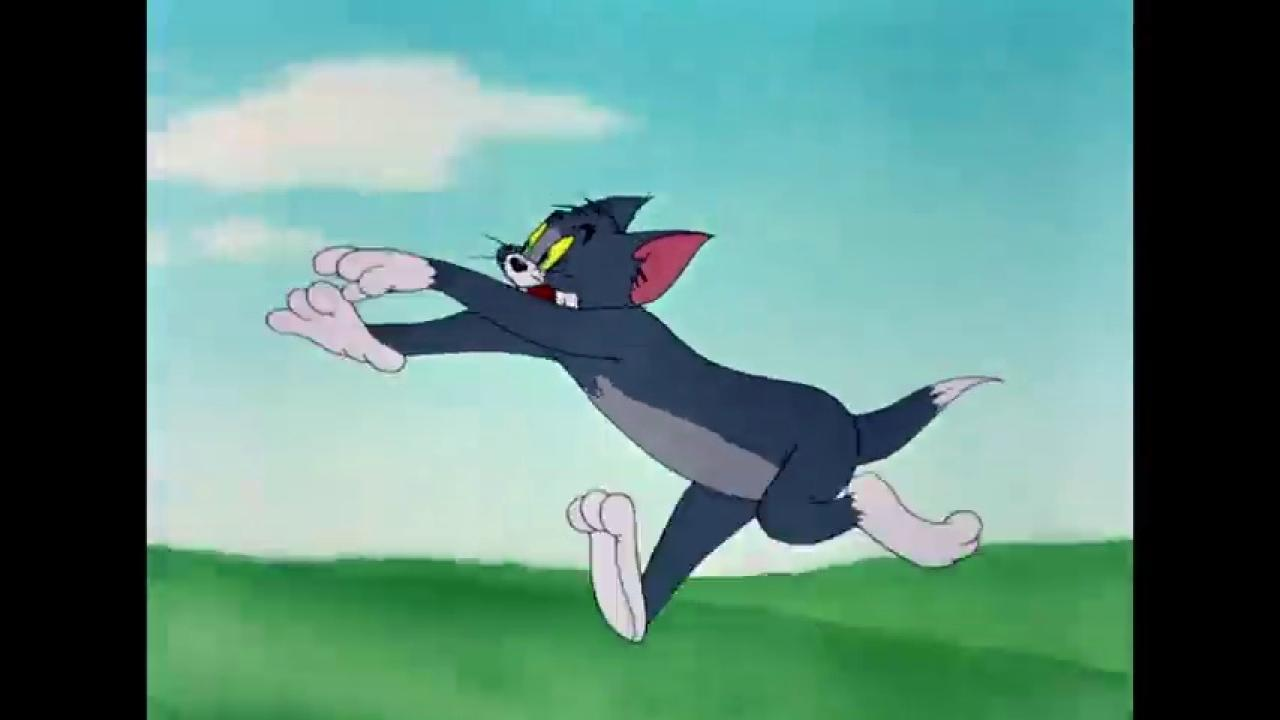Tom: (266, 193, 1006, 647)
